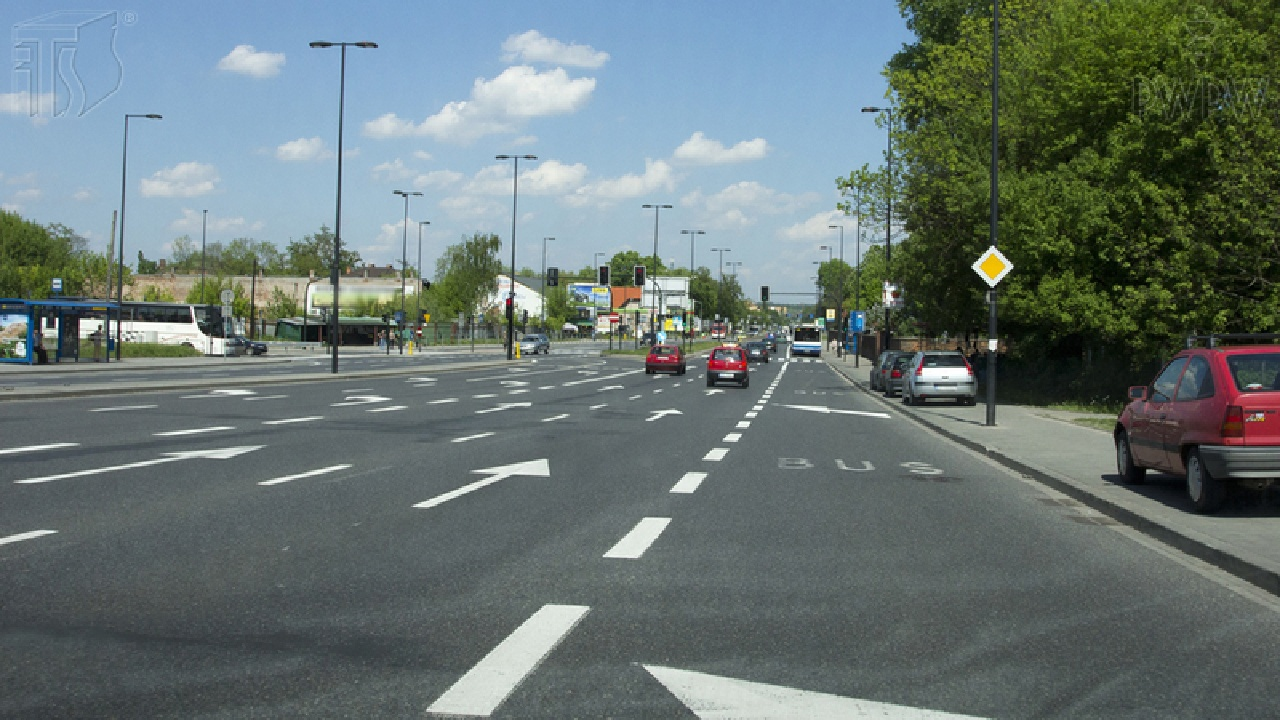D1: (970, 245, 1014, 288)
